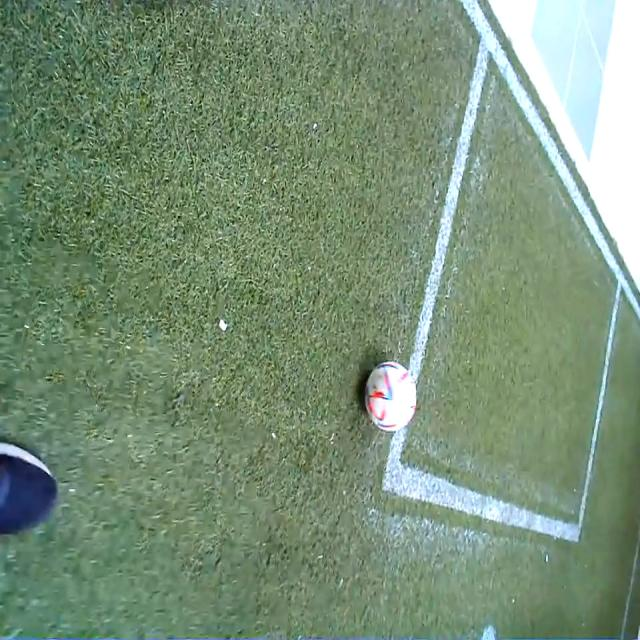ball: (366, 359, 419, 433)
